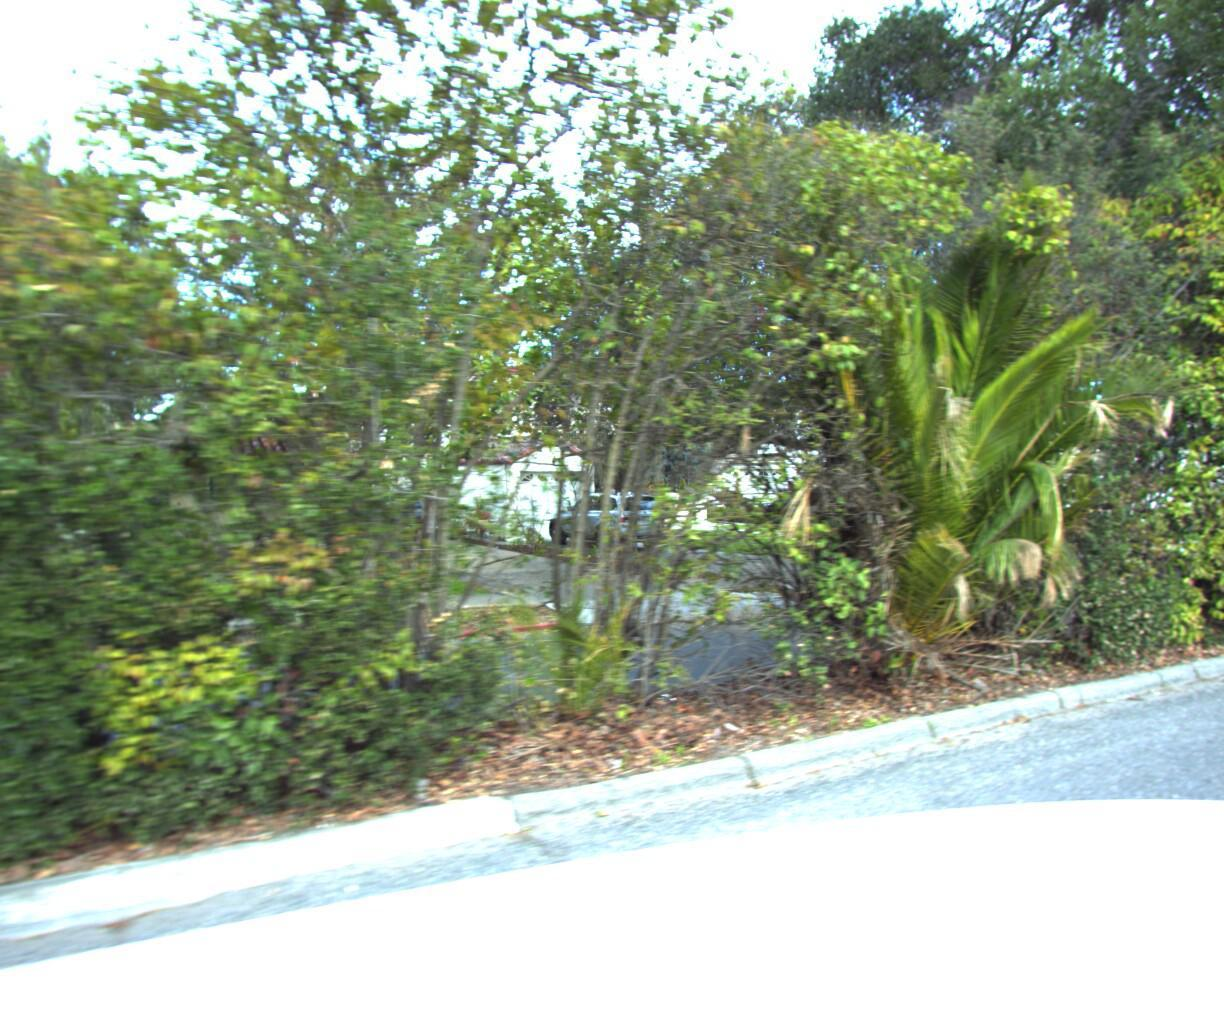car: (542, 487, 675, 555)
